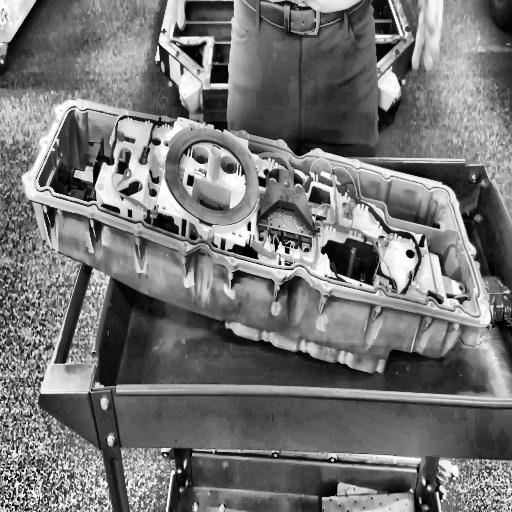bms_unit: (16, 94, 492, 379)
